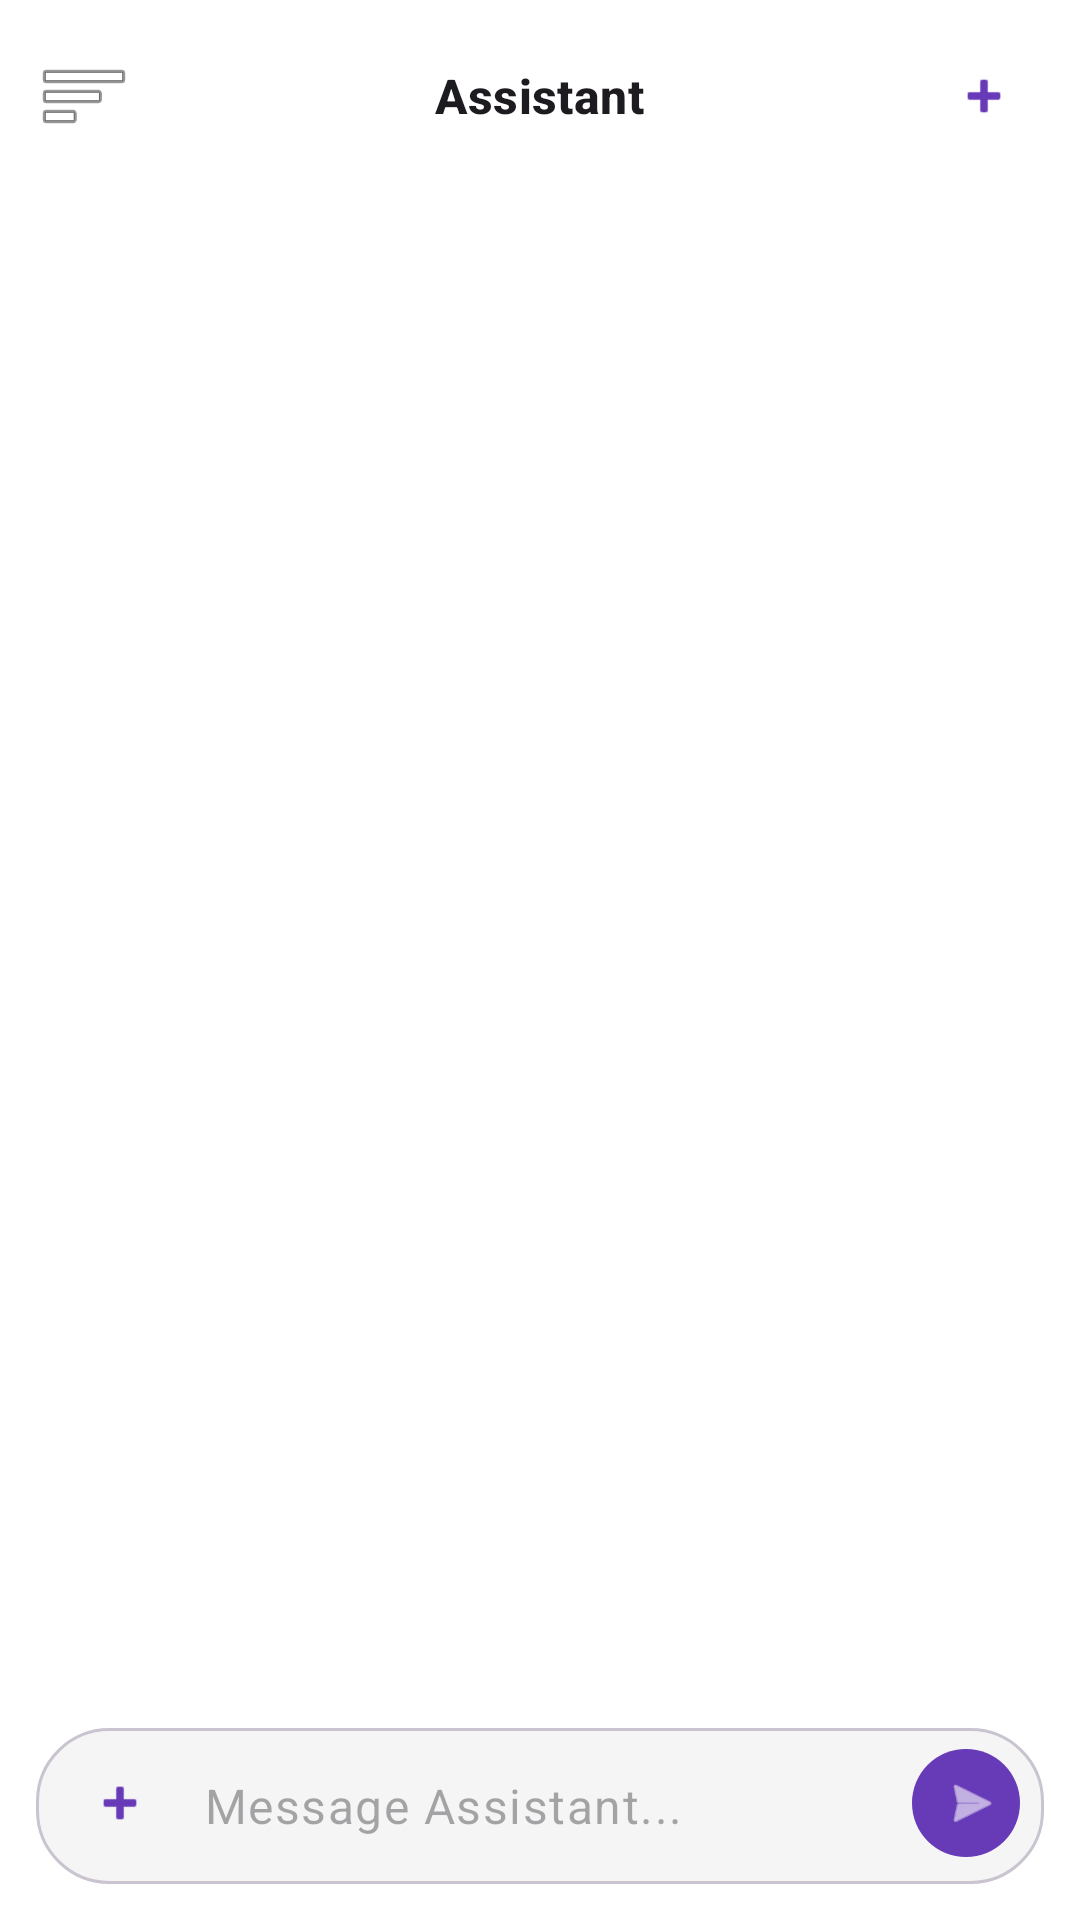

Named icons in this screenshot (1080 × 1920) and their centers, (x=x, y=y):
add: (x=984, y=96), (x=120, y=1803)
send: (x=966, y=1803)
